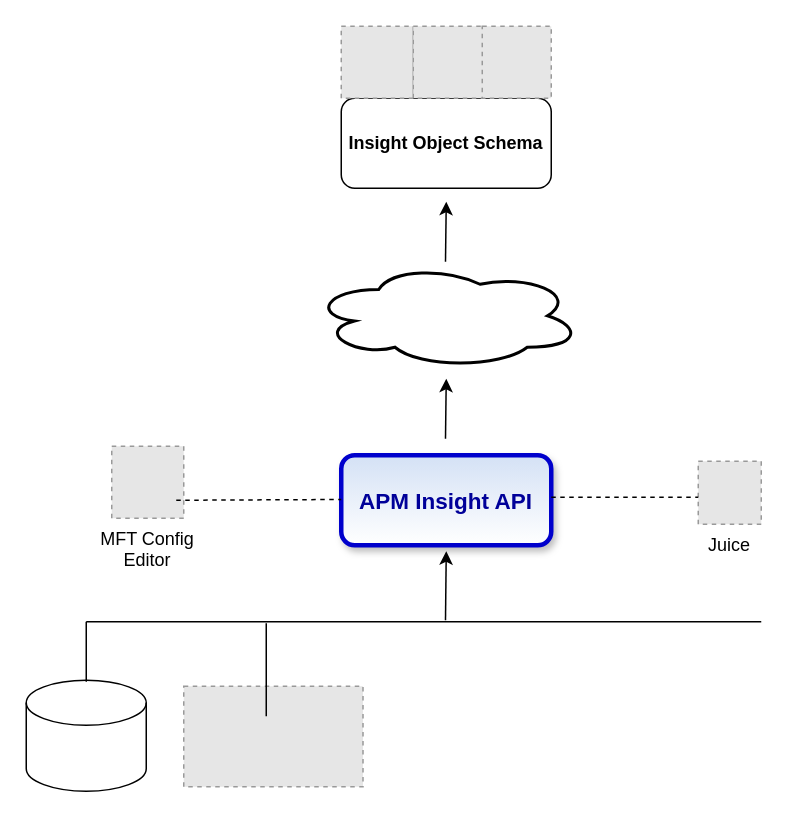
Image size: 789x818. Some labels were removed from this diagram. Grey dashed boxes stand in for pictures. Each missing label, with the centre of its shape:
Jira Insight API: the point at 445,315
SQL Databases: the point at 85,735
